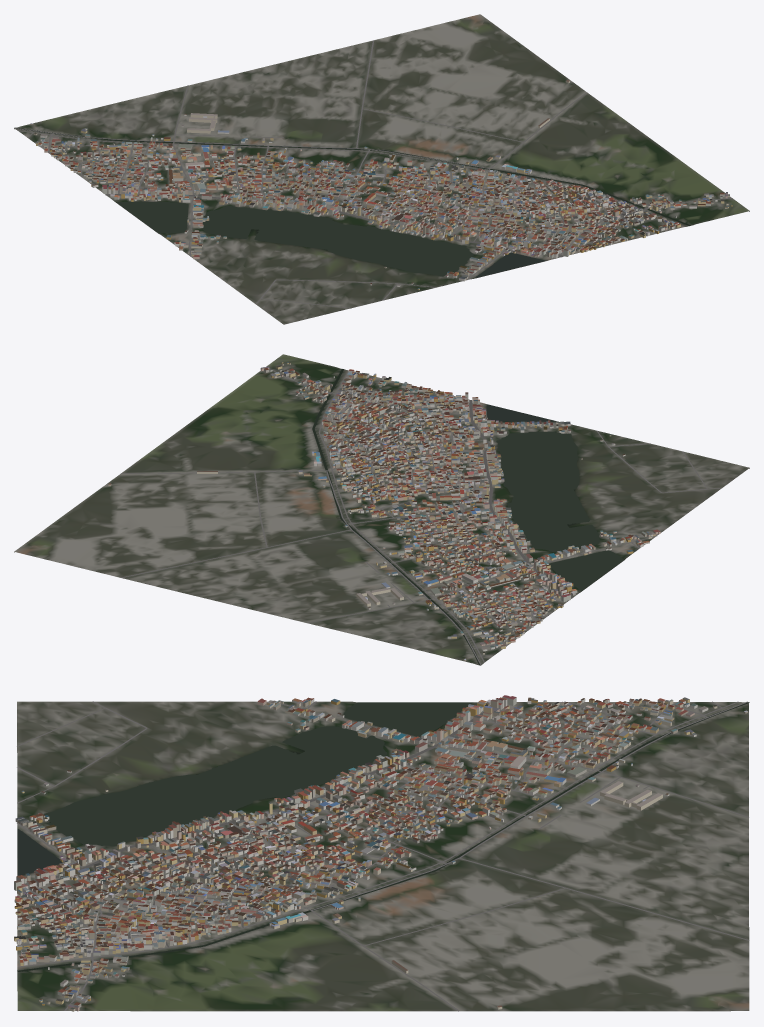
3 views of the same model, one above another, from view 1: azimuth 30°, elevation 25°; view 2: azimuth 150°, elevation 25°; view 3: azimuth 270°, elevation 25° (orthographic). The views are drawn at different scales.
Parts seen in each view (by area): view 1: ground, buildings, water, roads; view 2: ground, buildings, water, roads; view 3: ground, buildings, water, roads.
Part boxes in pixels (x1,y1,x2,y2): ground: [14, 14, 749, 324]; buildings: [30, 80, 732, 290]; water: [14, 127, 690, 277]; roads: [14, 40, 732, 308]; ground: [14, 354, 749, 665]; buildings: [108, 362, 660, 660]; water: [312, 369, 623, 665]; roads: [120, 367, 721, 664]; ground: [17, 701, 749, 1011]; buildings: [14, 695, 747, 1011]; water: [17, 702, 749, 971]; roads: [17, 701, 749, 1011].
Bounding box in the file's own units: 1411 × 28.6 × 1410.
